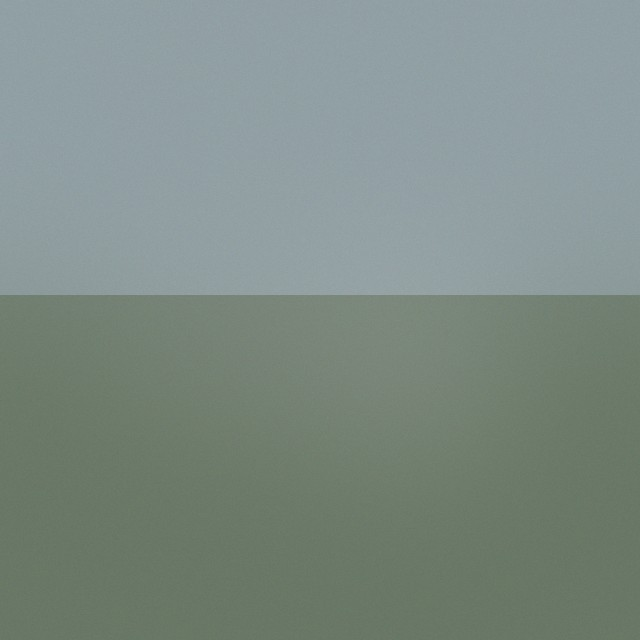smoke: (81, 29, 409, 357)
